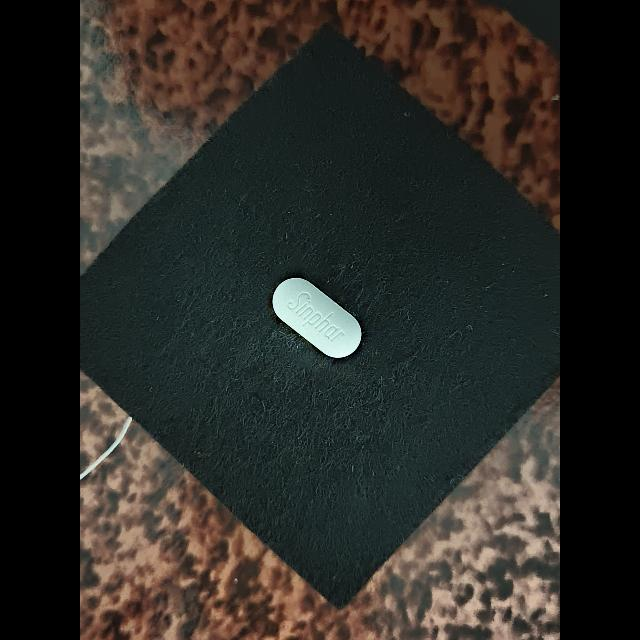Intact Pill: (272, 278, 362, 358)
